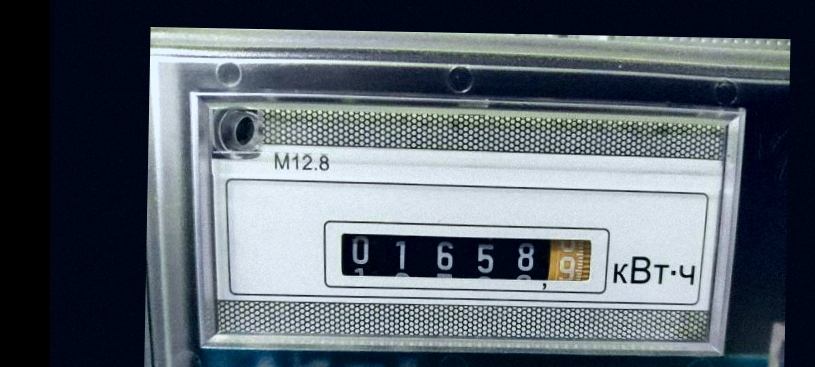0: (350, 234, 370, 264)
1: (393, 237, 410, 270)
5: (475, 241, 496, 272)
6: (435, 237, 455, 271)
8: (516, 239, 536, 271)
9: (555, 253, 577, 282)
screen: (313, 211, 615, 300)
